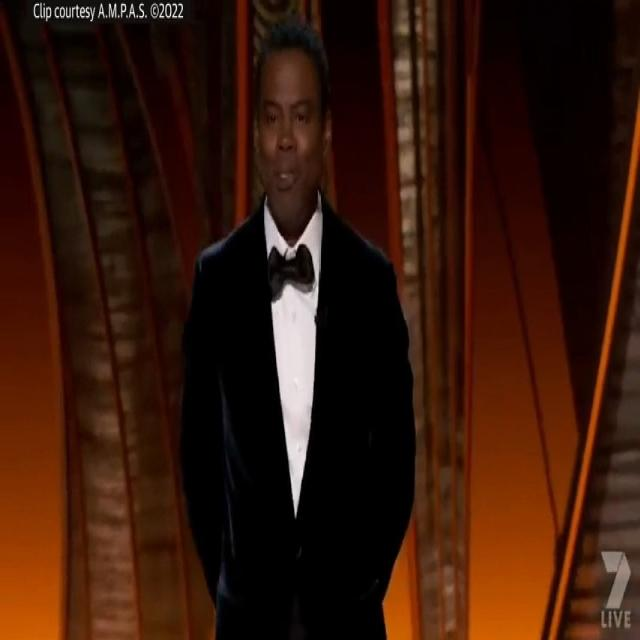non-fight: (156, 13, 431, 640)
